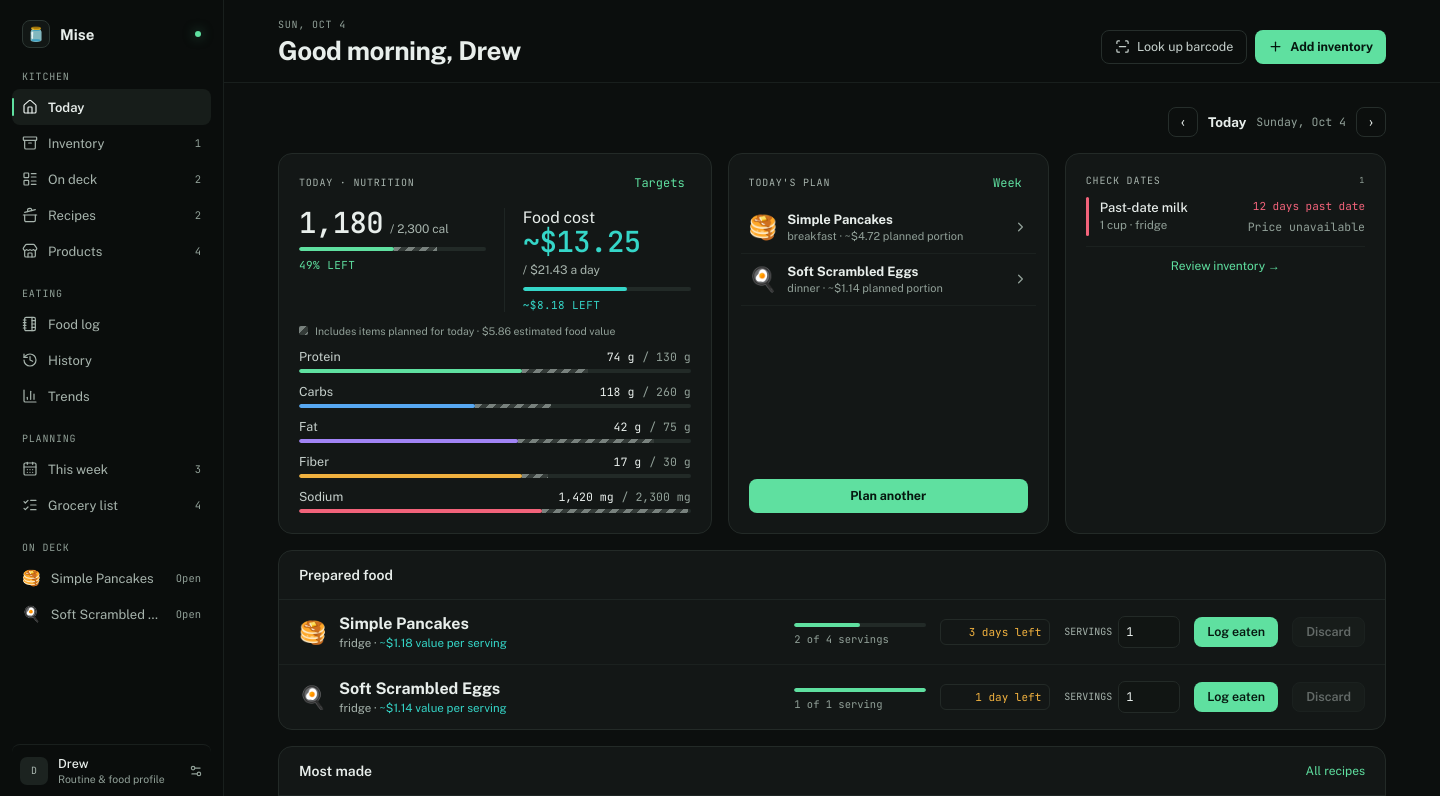
it: lets past-date stock be inspected without recommending cooking it
The image size is (1440, 796).
Expected: the text "Check dates" is shown, x1=1086 y1=174 x2=1161 y2=187
Expected: the text "12 days past date" is shown, x1=1253 y1=199 x2=1365 y2=213
Click the button "Past-date milk". click: coordinates (1144, 208)
box: x1=1086 y1=187 x2=1365 y2=247
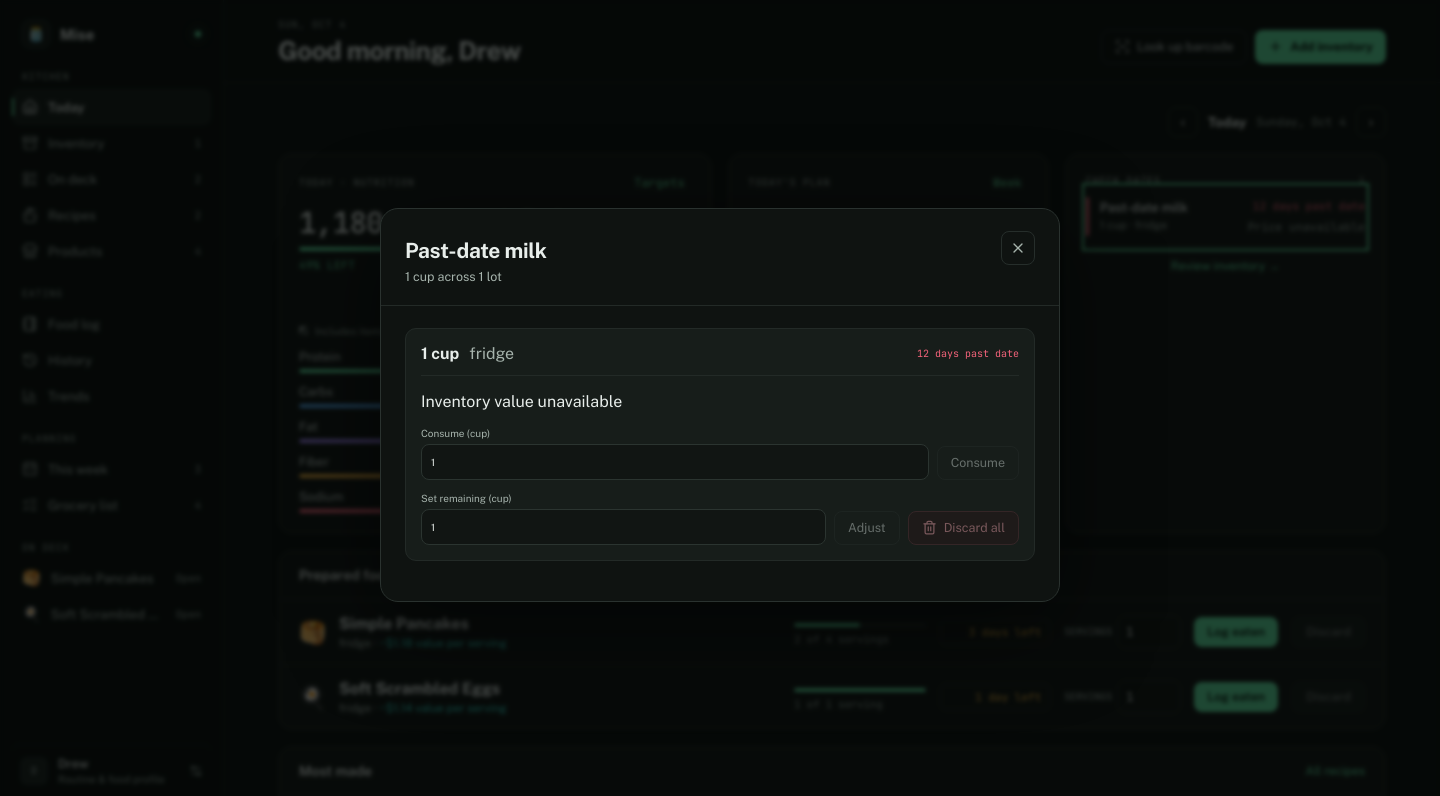
Now the text "12 days past date" is shown, box x1=917 y1=347 x2=1019 y2=360
Click the button named "Close". click: coordinates (1018, 248)
box: x1=1001 y1=231 x2=1035 y2=265
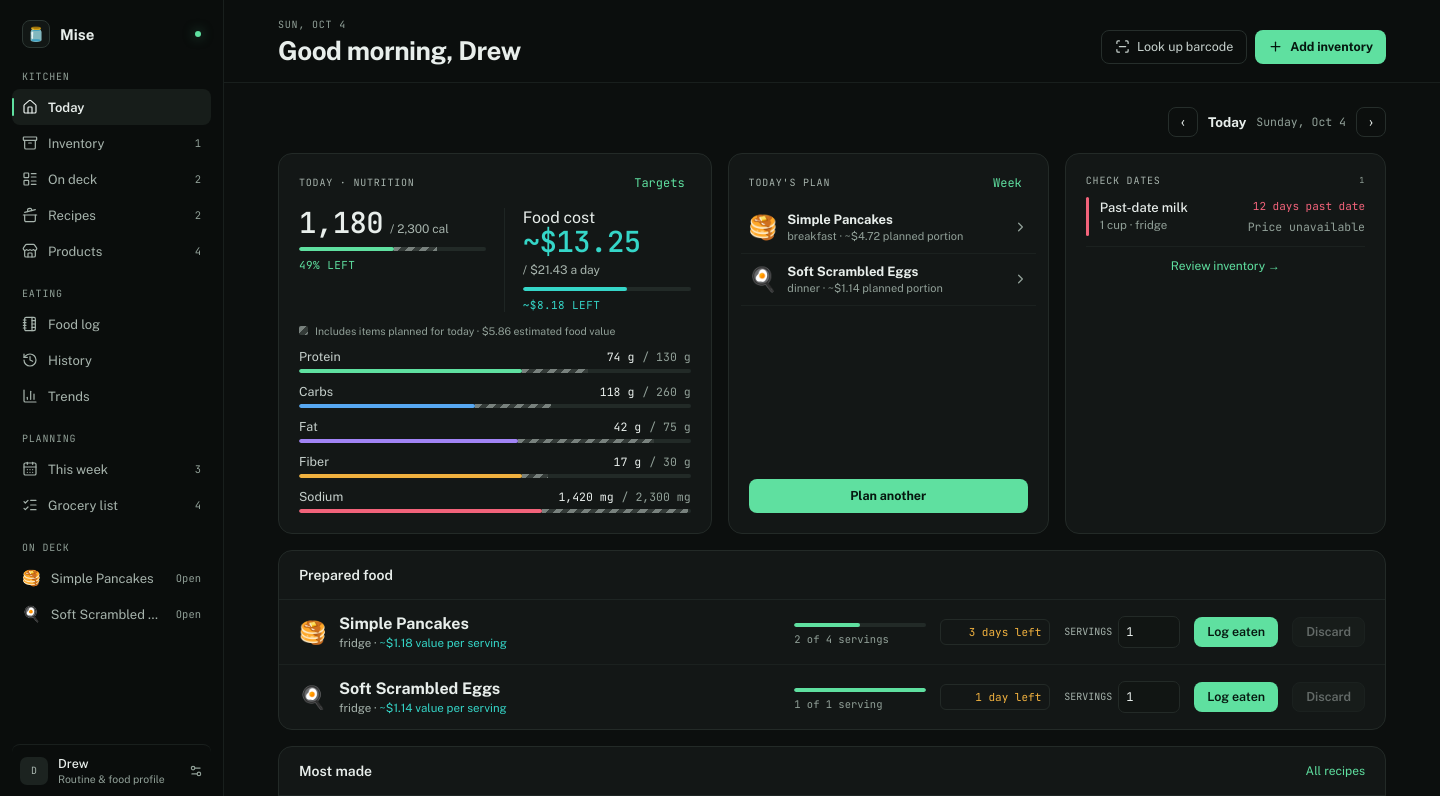
Click the button "Review inventory →". click: coordinates (1225, 266)
box: x1=1086 y1=259 x2=1365 y2=273
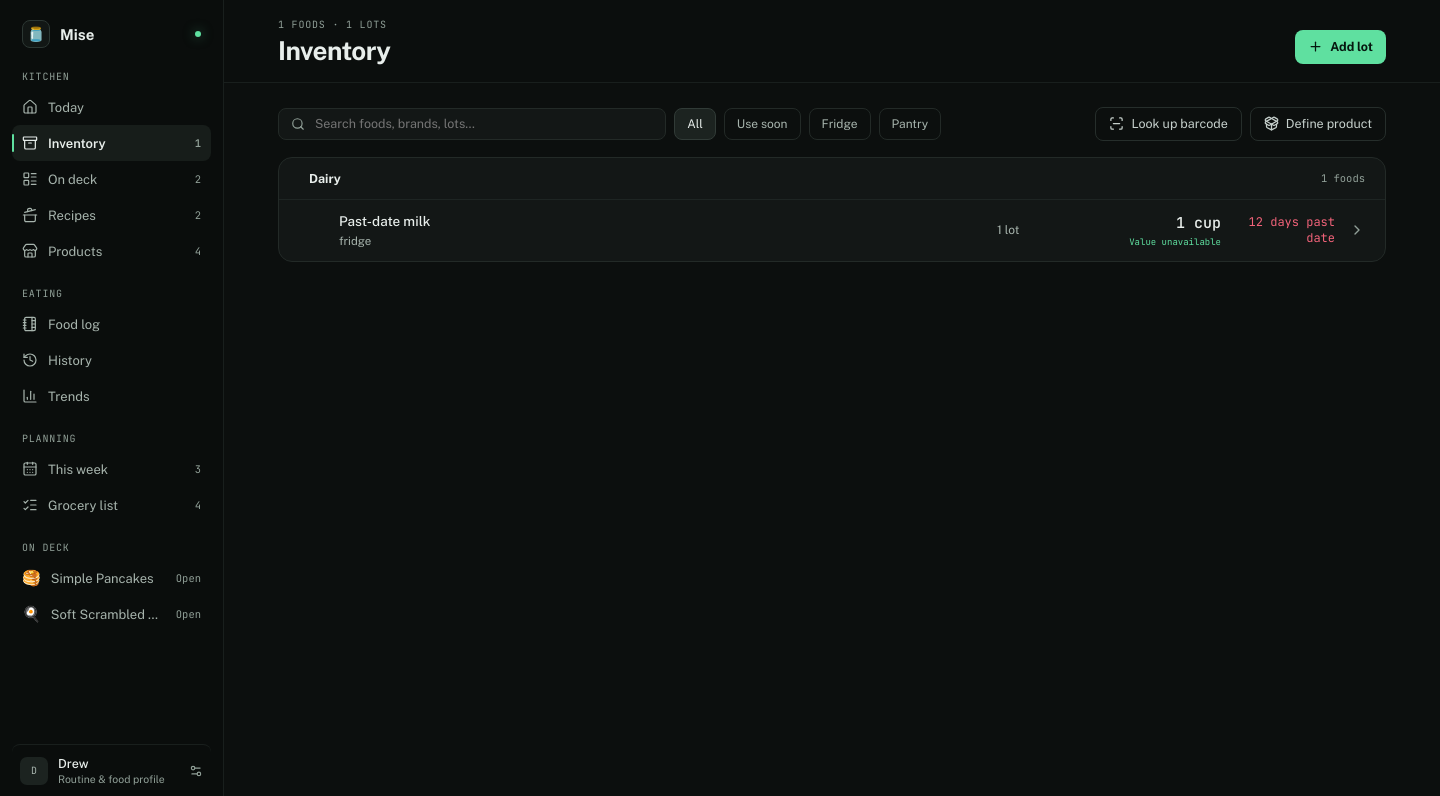
Expected: the text "Past-date milk" is shown, x1=339 y1=213 x2=430 y2=229
Now the heading "Inventory" is shown, box x1=278 y1=35 x2=390 y2=66
